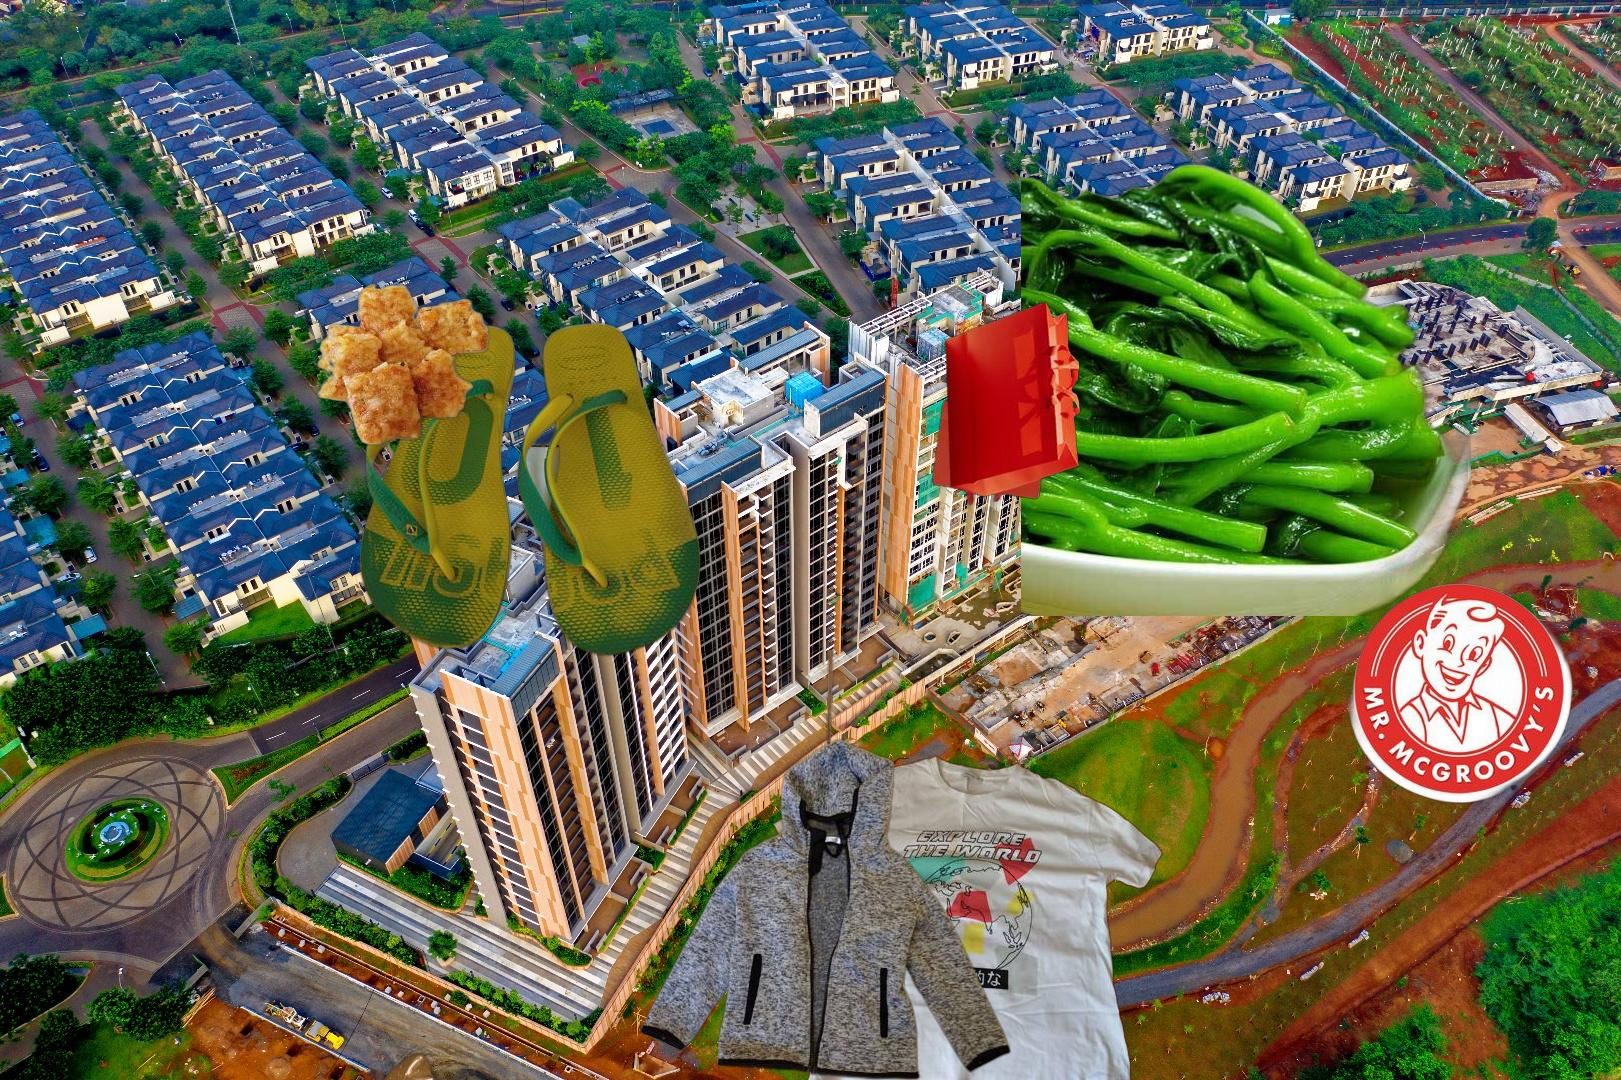biological: (1021, 159, 1471, 616), (312, 274, 495, 451)
clothes: (769, 610, 1163, 1080), (638, 650, 1013, 1080)
paper-bag: (929, 299, 1083, 510)
plastic-bottles: (283, 1049, 667, 1080)
shoes: (356, 319, 704, 660)
trashbox-cardboard: (1341, 581, 1575, 806)
